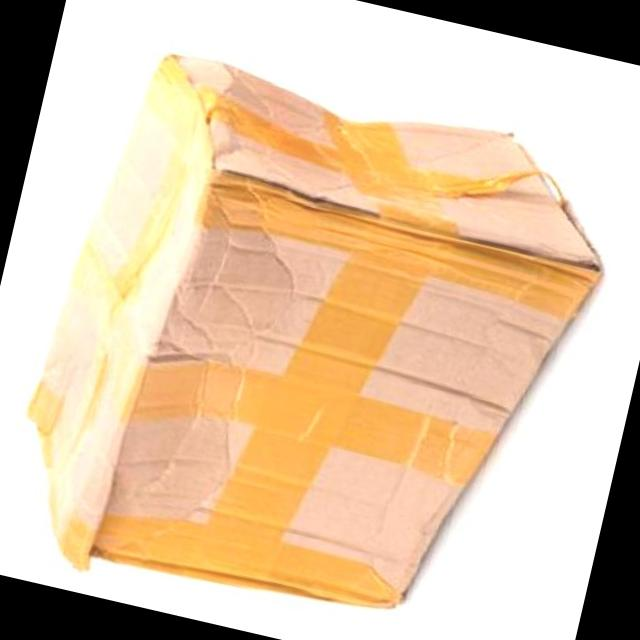box: (26, 51, 602, 610)
crushed: (138, 201, 273, 564), (379, 313, 558, 585), (274, 92, 456, 224), (46, 337, 106, 498)
